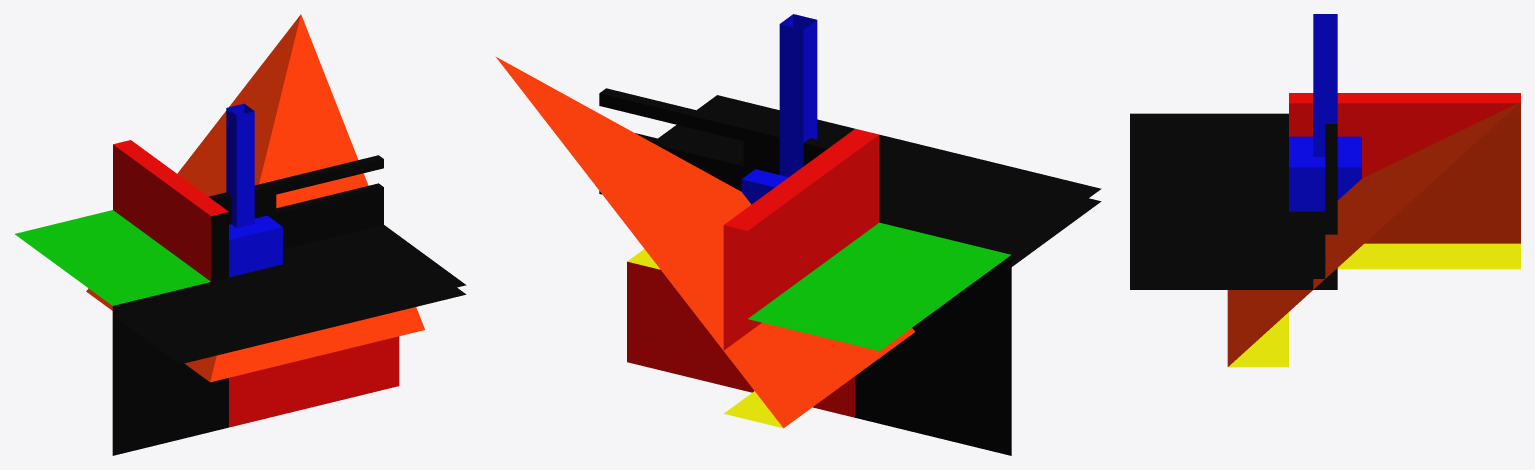
File: None_S_P_E_E_W_P_E_E_BigStrut.fbx
3 renders of one model, left to right at view 1: azimuth 30°, elevation 25°; view 2: azimuth 150°, elevation 25°; view 3: azimuth 270°, elevation 25°, orthographic. The views are drawn at different scales.
Visible parts, largest first — view 1: None_S_P_E_E_W_P_E_E_BigStrut; view 2: None_S_P_E_E_W_P_E_E_BigStrut; view 3: None_S_P_E_E_W_P_E_E_BigStrut.
Boxes of the visible parts, x1=… form: None_S_P_E_E_W_P_E_E_BigStrut: x1=15, y1=14, x2=466, y2=455; None_S_P_E_E_W_P_E_E_BigStrut: x1=495, y1=14, x2=1101, y2=455; None_S_P_E_E_W_P_E_E_BigStrut: x1=1130, y1=14, x2=1520, y2=367.
Bounding box in the file's own units: 100 × 100 × 100.
